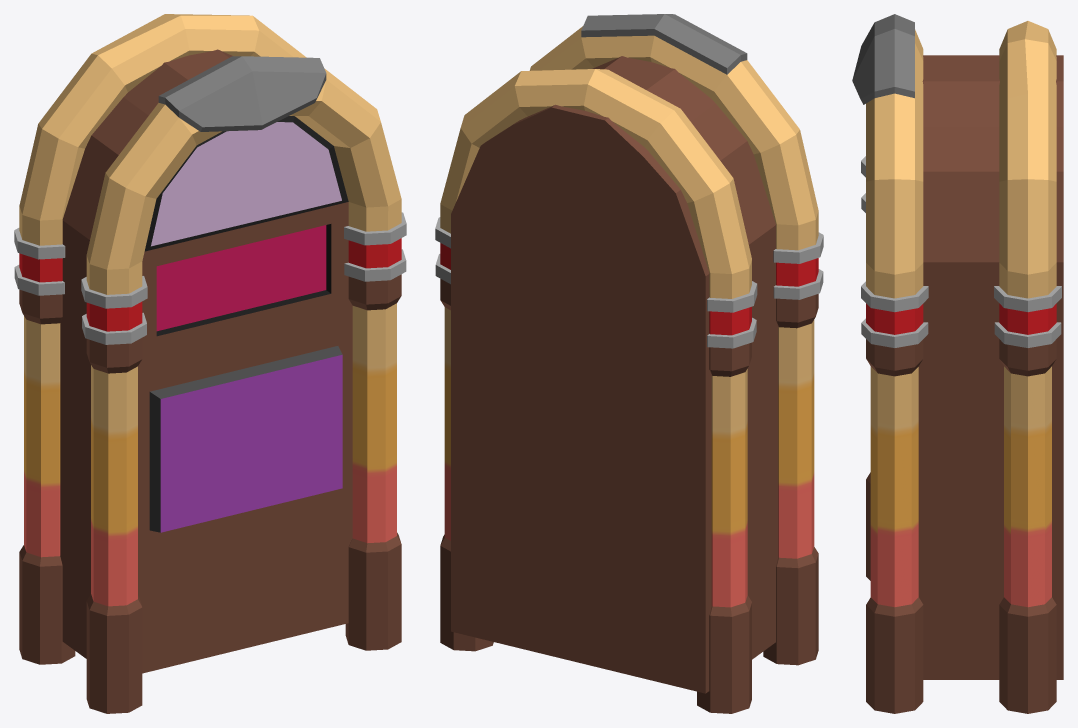
The model's file is Jukebox.fbx.
3 views of the same model, side by side, from view 1: azimuth 30°, elevation 25°; view 2: azimuth 150°, elevation 25°; view 3: azimuth 270°, elevation 25° (orthographic).
Visible parts, largest first — view 1: Cube; view 2: Cube; view 3: Cube.
Boxes of the visible parts, x1,y1,x2,y2 form: Cube: (14, 14, 406, 713); Cube: (435, 14, 823, 713); Cube: (852, 14, 1063, 713).
Size of the model in its own units: 0.9567 by 1.77 by 0.5553.
